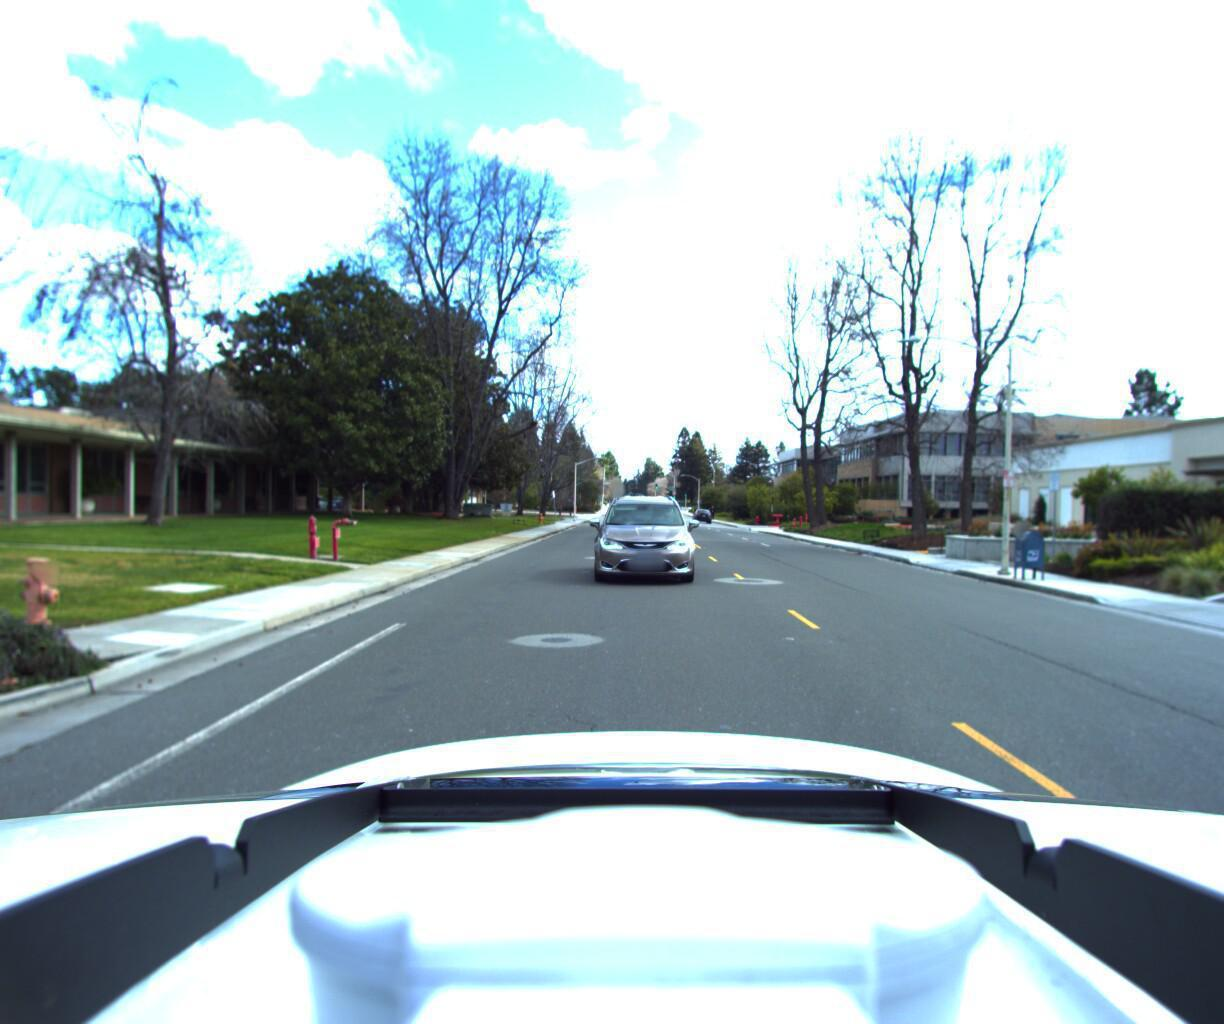car: (583, 493, 696, 595), (690, 517, 712, 531)
